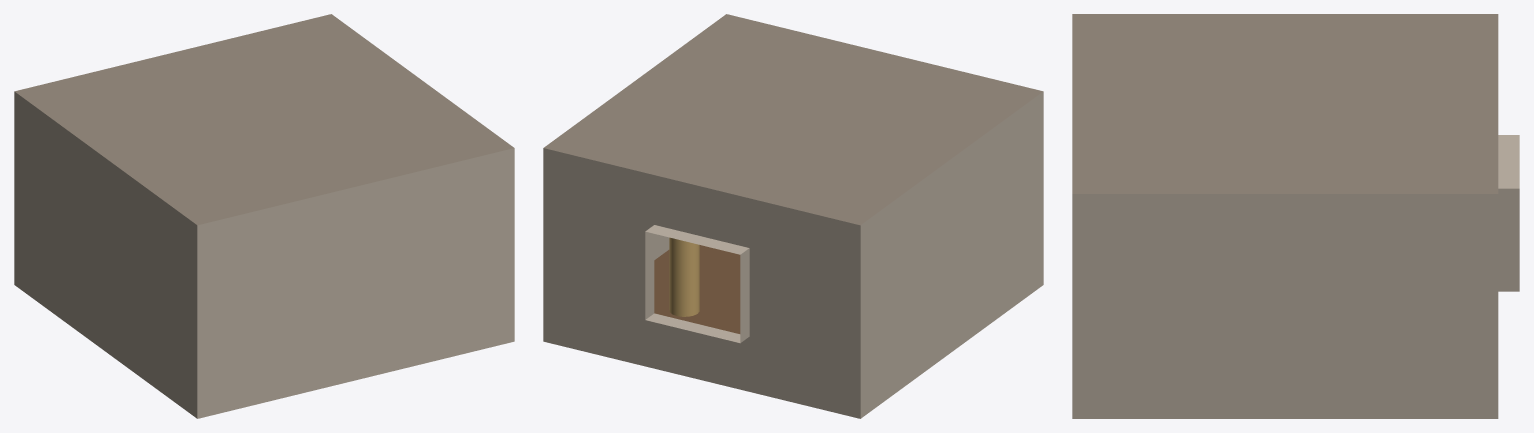
File: room-proof.glb
3 views of the same model, side by side, from view 1: azimuth 30°, elevation 25°; view 2: azimuth 150°, elevation 25°; view 3: azimuth 270°, elevation 25° (orthographic). The views are drawn at different scales.
Visible parts, largest first — view 1: room-proof; view 2: room-proof; view 3: room-proof.
Boxes of the visible parts, box(x1,y1,x2,y2) form: room-proof: box(14, 14, 514, 418); room-proof: box(543, 14, 1043, 418); room-proof: box(1072, 14, 1519, 418).
Size of the model in its own units: 6 by 3.5 by 6.3.
